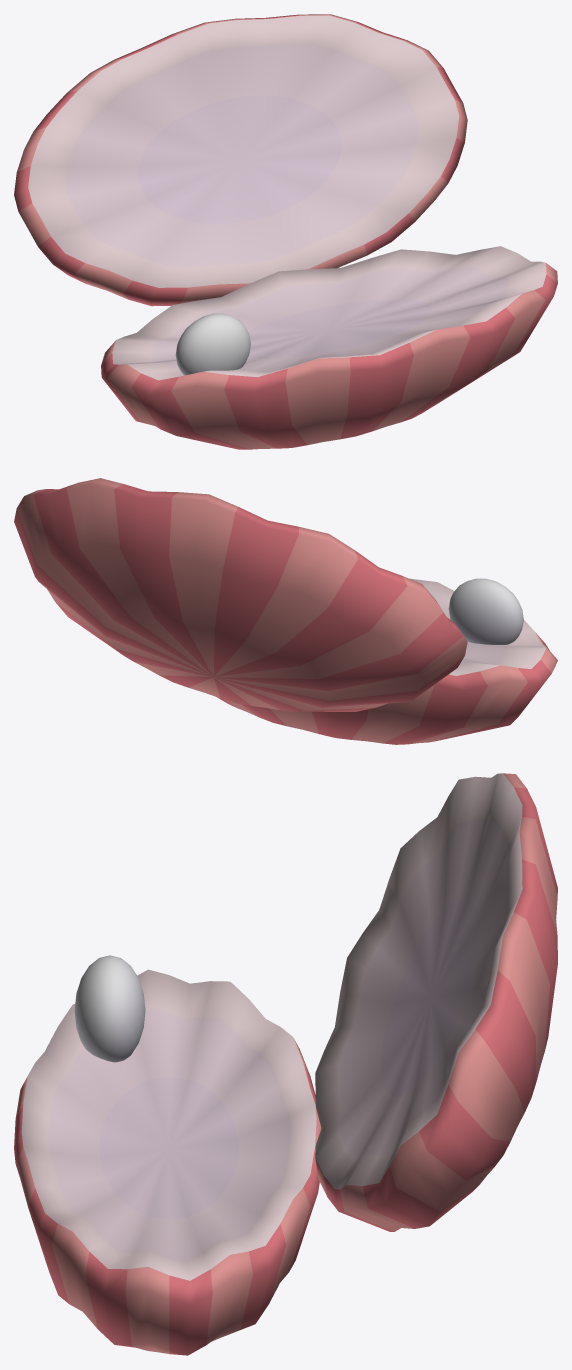
File: pet_mount_clam_shell.fbx
3 renders of one model, top to bottom at view 1: azimuth 30°, elevation 25°; view 2: azimuth 150°, elevation 25°; view 3: azimuth 270°, elevation 25°, orthographic. The views are drawn at different scales.
Parts seen in each view (by area): view 1: pet_mount_clam_shell; view 2: pet_mount_clam_shell; view 3: pet_mount_clam_shell.
Part boxes in pixels (bbox=[...]): pet_mount_clam_shell: bbox=[14, 14, 557, 449]; pet_mount_clam_shell: bbox=[14, 478, 557, 744]; pet_mount_clam_shell: bbox=[14, 773, 557, 1355].
Bounding box in the file's own units: 3.3 × 2.26 × 2.4.
